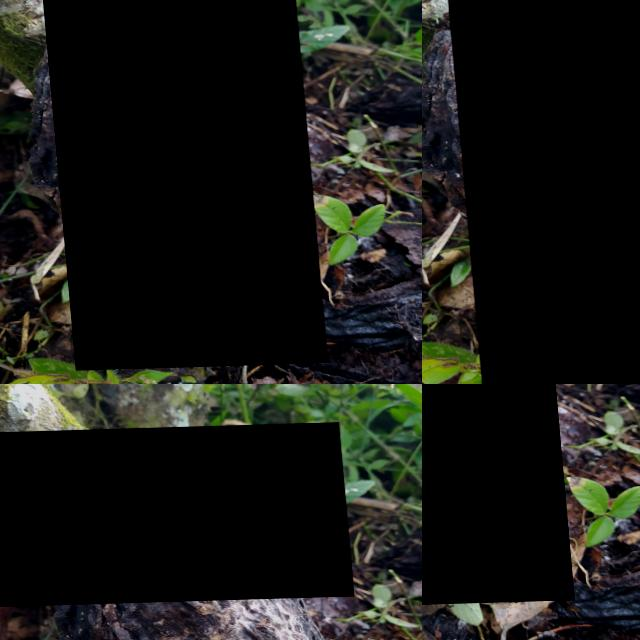Fitoftora: (37, 0, 317, 371), (439, 0, 640, 384), (422, 384, 565, 609)
Monilia: (0, 425, 348, 610)
